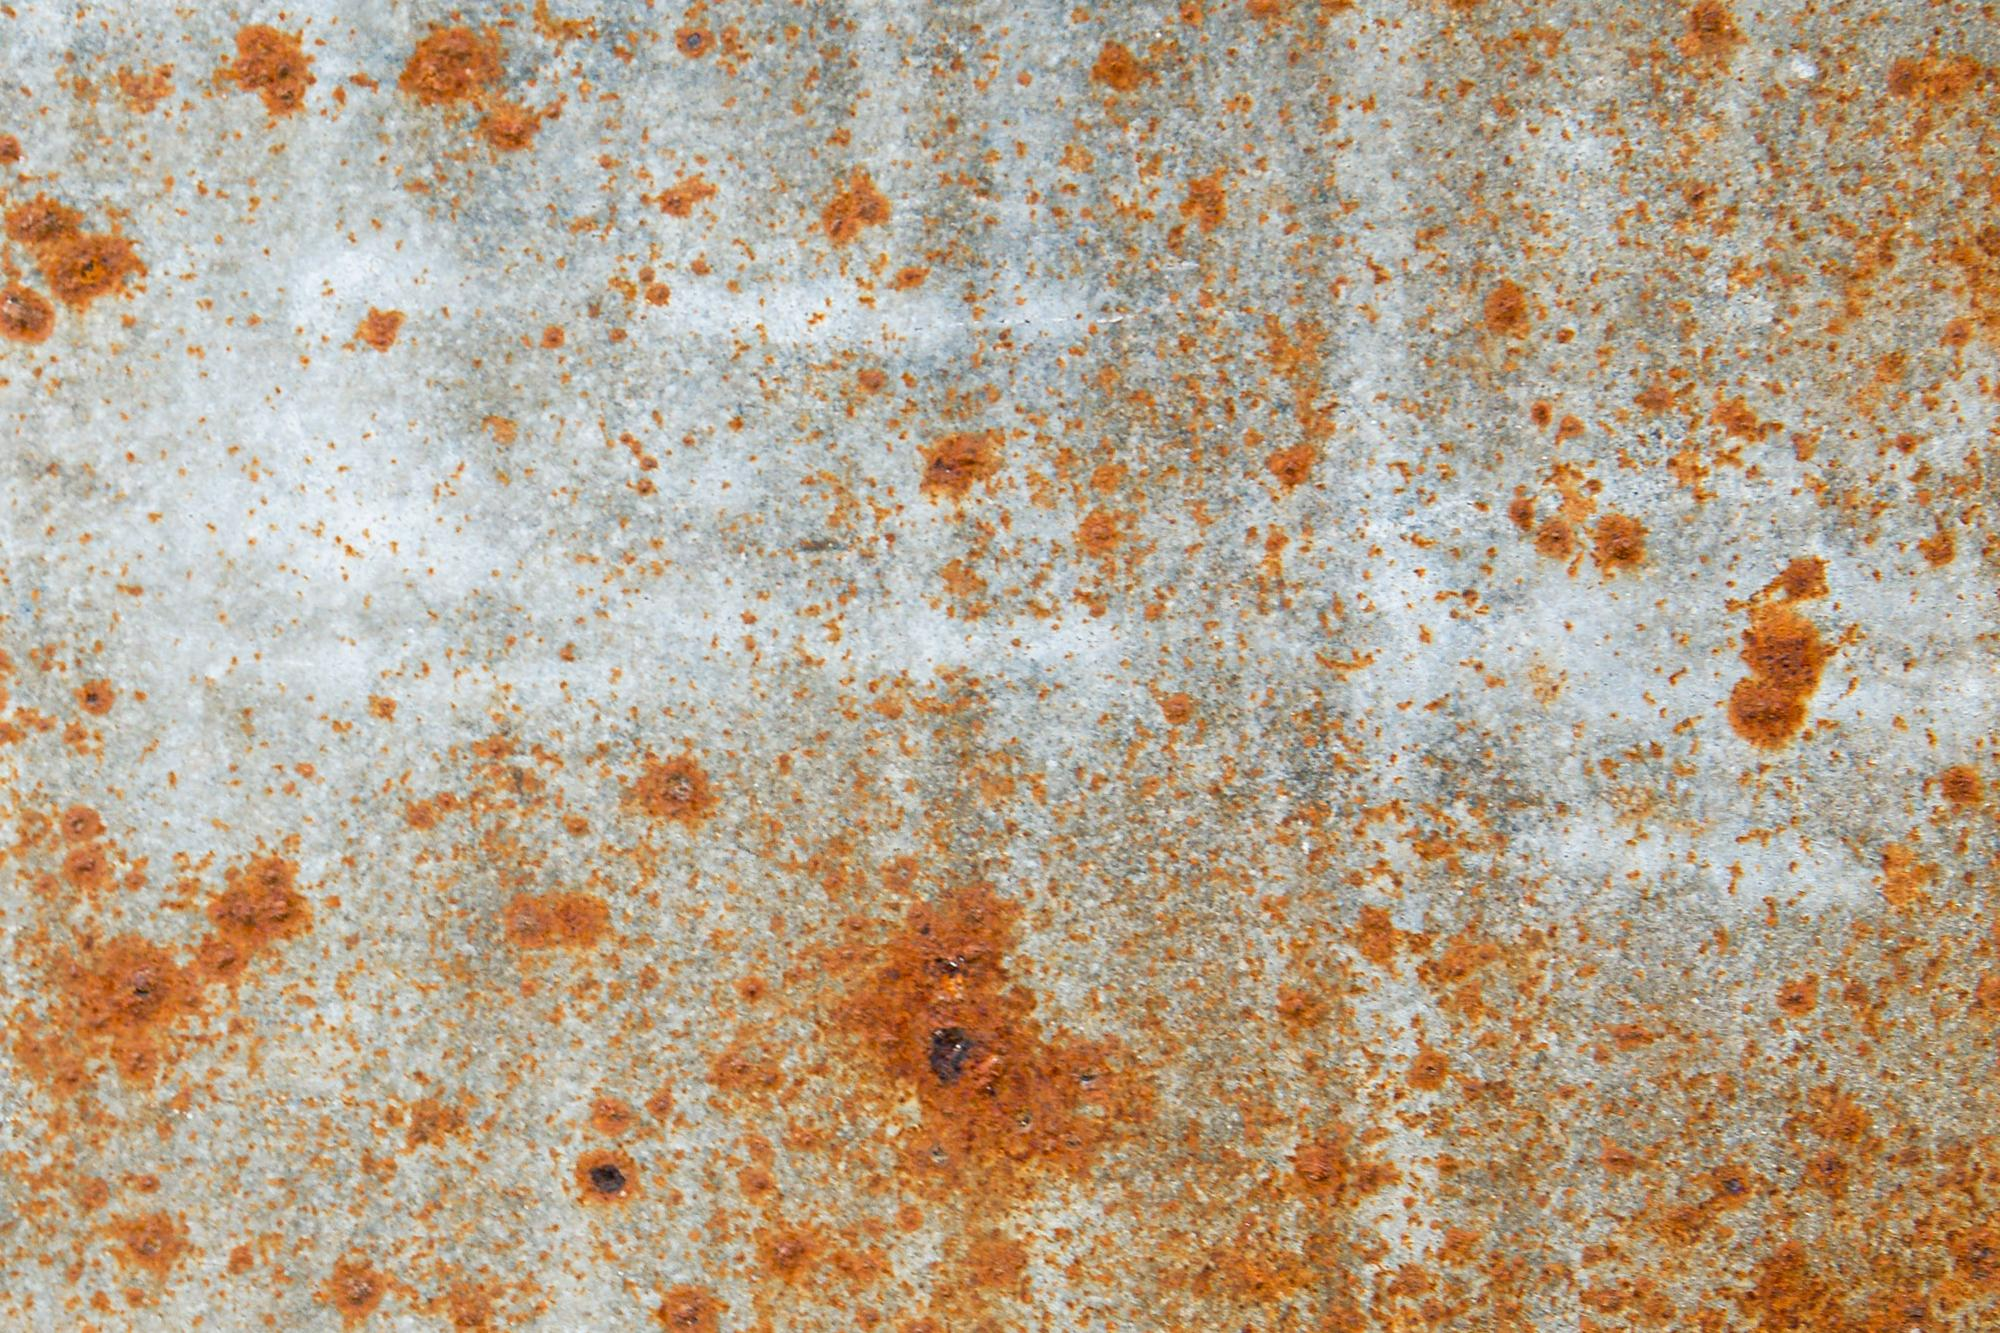rust: (517, 736, 1161, 1285), (1, 794, 363, 1117), (1593, 1006, 1988, 1300), (932, 405, 1326, 607), (1486, 280, 1657, 571), (225, 19, 546, 147), (1700, 570, 1903, 751), (1, 187, 150, 323)
